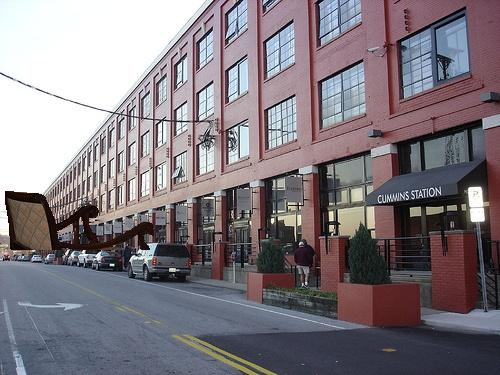tampered: (6, 192, 154, 250)
